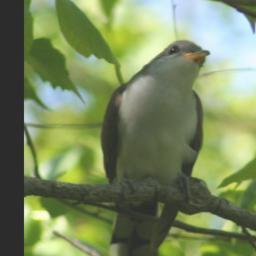Cuckoo: (99, 39, 211, 256)
